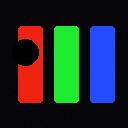2 circle: (12, 39, 38, 65)
